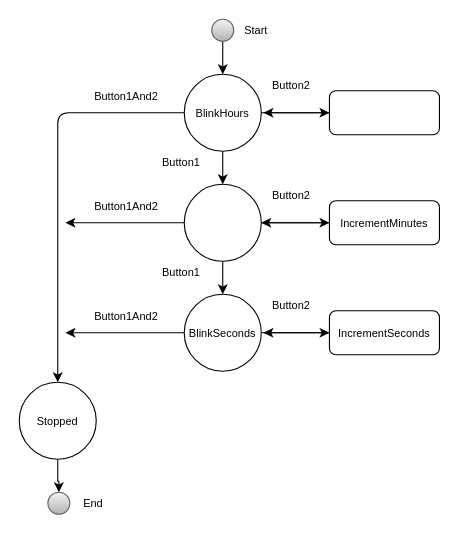
Image size: 459x534. Some labels were removed from this diagram. The centre of each missing label's shape, as x and y in pixels:
"BlinkMinutes" belongs at point 222,222.
"IncrementHours" belongs at point 383,112.
